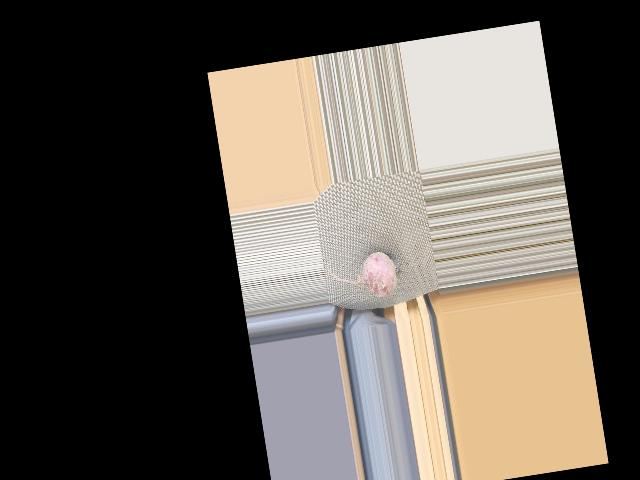beet: (328, 249, 405, 305)
